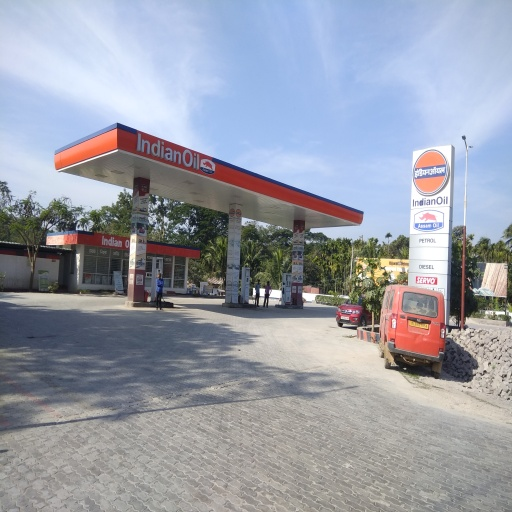roof: (55, 123, 364, 233)
